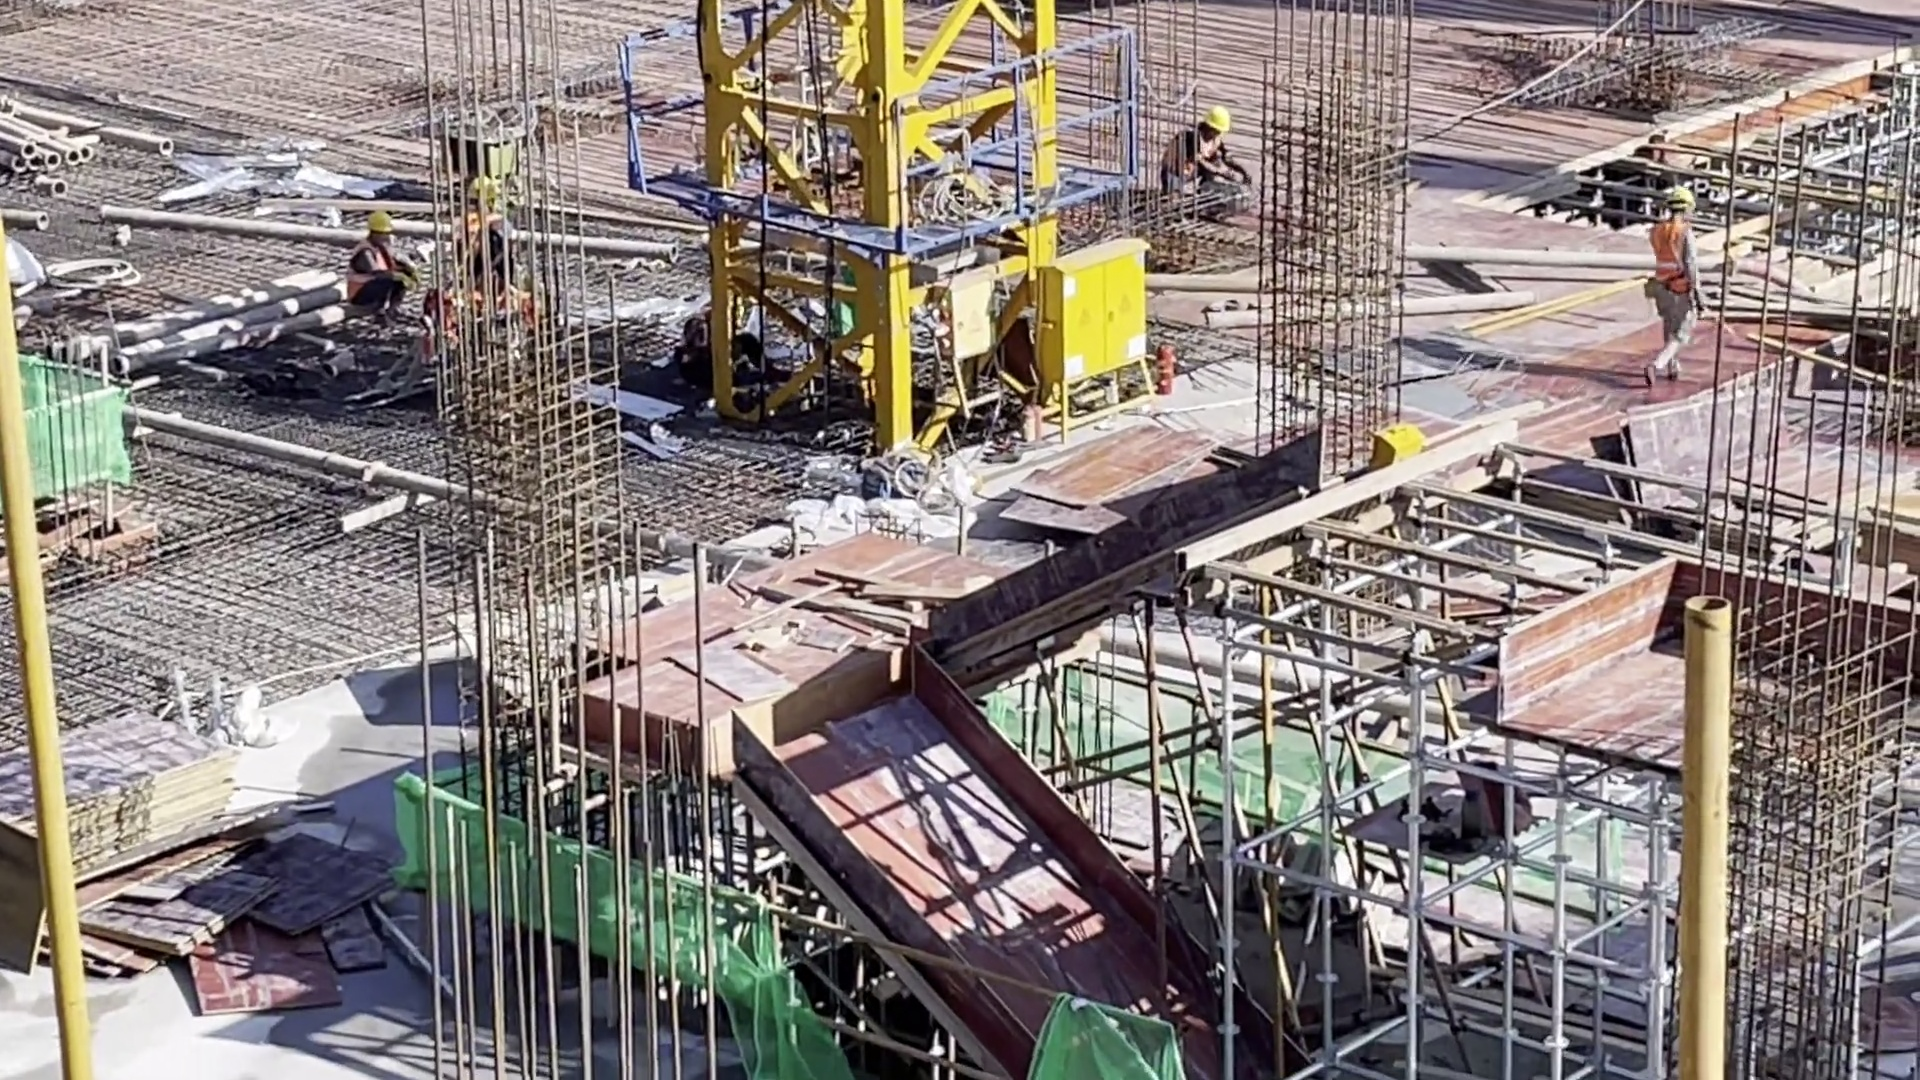board: (63, 805, 422, 1044), (1, 696, 271, 906)
ebox: (1031, 233, 1155, 427), (931, 265, 1007, 428), (1368, 422, 1430, 472)
helmet: (1662, 176, 1696, 213), (1199, 102, 1233, 136), (360, 208, 400, 236)
person: (1634, 177, 1707, 376), (330, 206, 415, 322), (1147, 99, 1243, 196)
vest: (1164, 125, 1227, 188), (1647, 221, 1695, 297), (346, 251, 388, 317)
